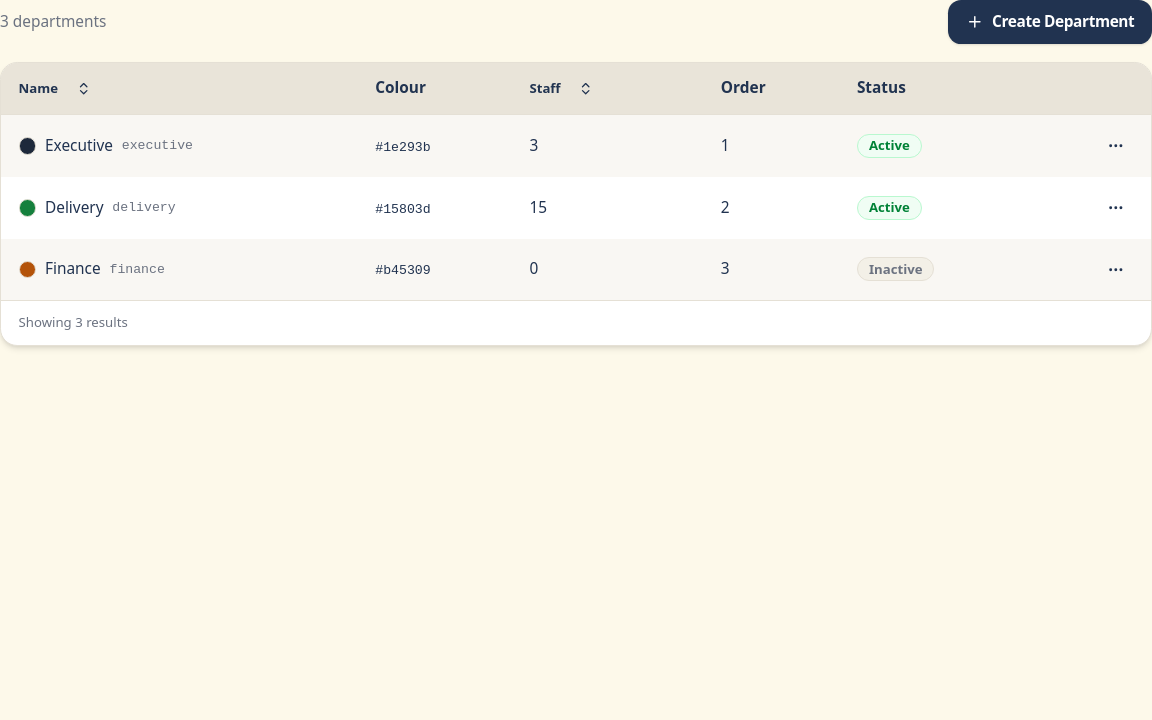
Test case: DepartmentManagementContent › opens edit dialog from dropdown menu
Find the actions button for the first department
Press the mouse on the button named "Actions for": (1116, 146) [1098,129,1133,164]
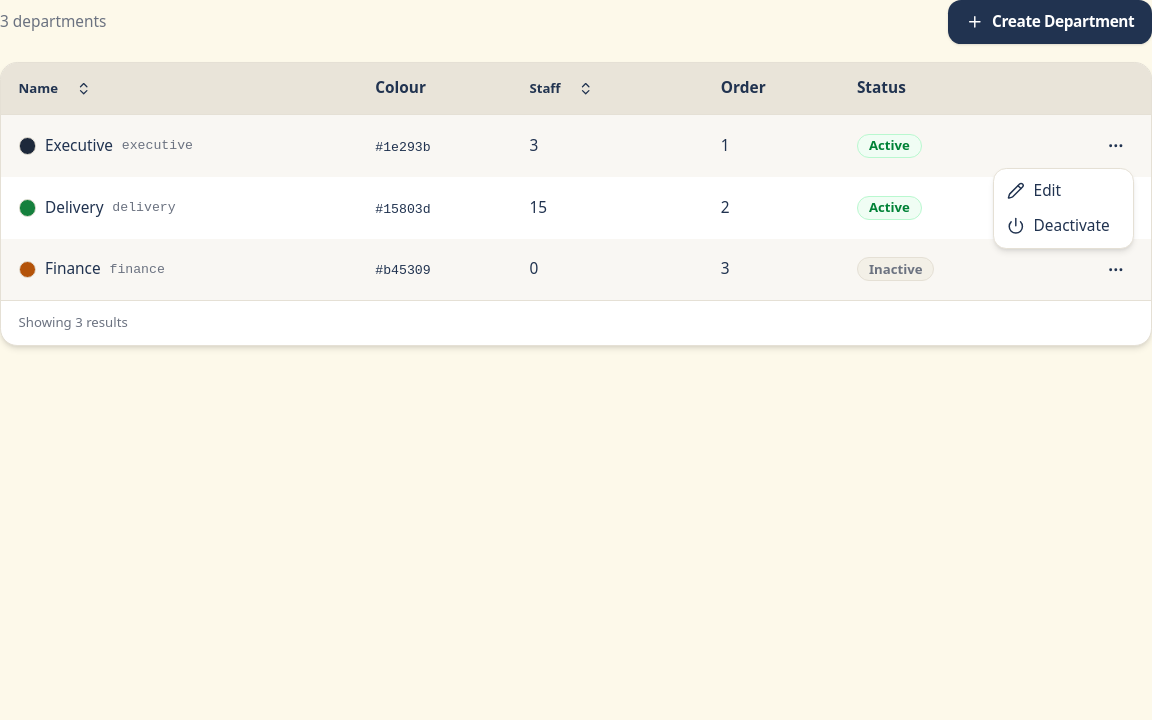
Click Edit in the dropdown
Click the menu item "Edit": (1034, 190) [1007,180,1061,201]
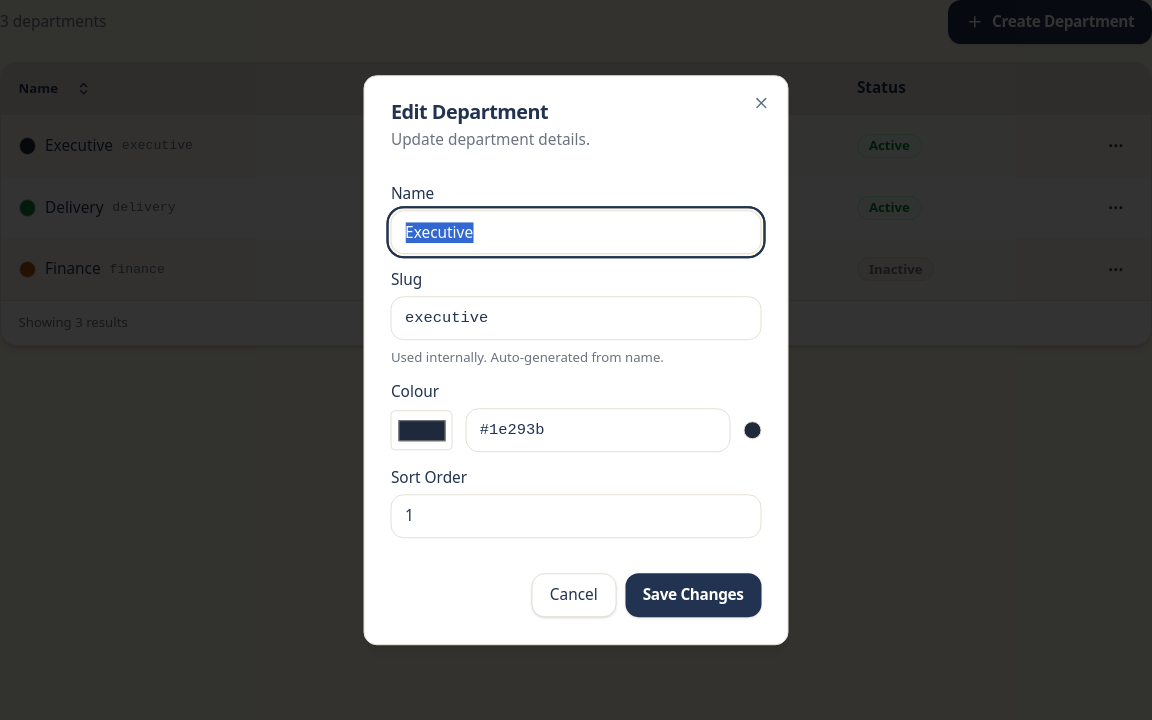
Now the heading "Edit Department" is shown, box [391,99,548,126]
Now the text "Update department details." is shown, box [391,129,590,150]
